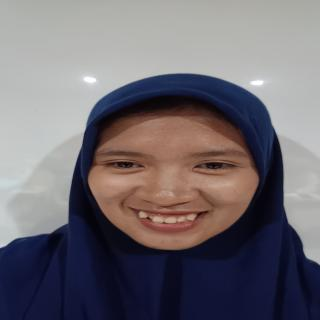Senang: (78, 103, 269, 254)
